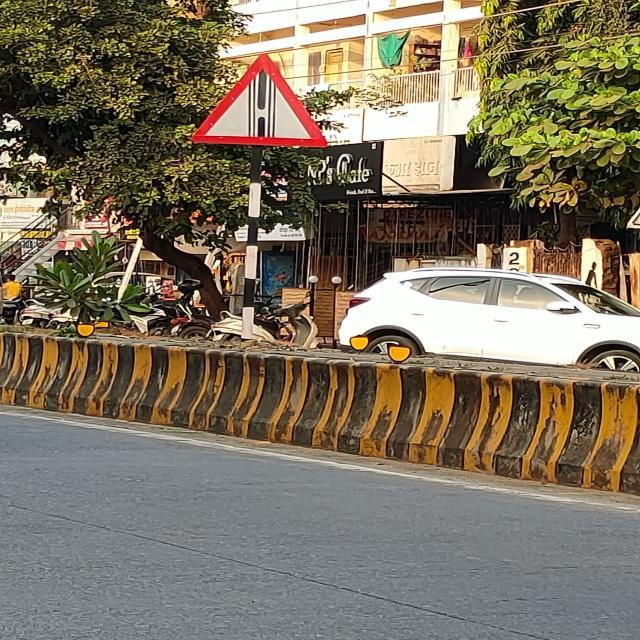gap in median: (189, 52, 331, 150)
